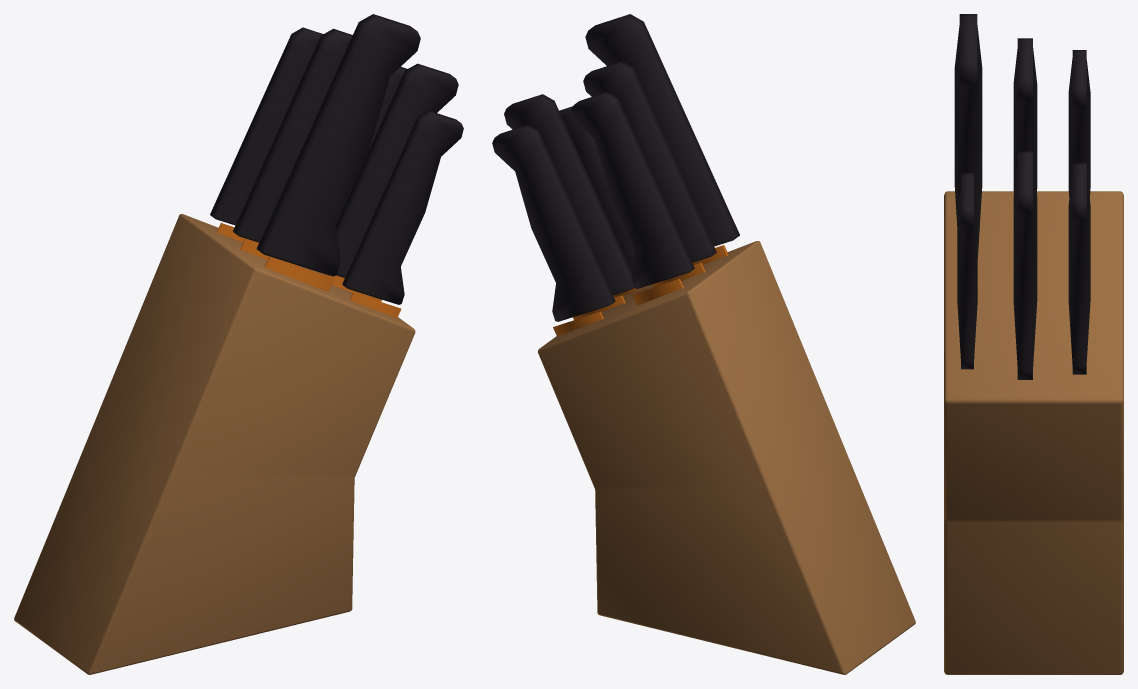
The model's file is Knife_Block.glb.
3 renders of one model, left to right at view 1: azimuth 30°, elevation 25°; view 2: azimuth 150°, elevation 25°; view 3: azimuth 270°, elevation 25°, orthographic. The views are drawn at different scales.
Parts seen in each view (by area): view 1: huitugou_2062_455, huitugou_2062_456, huitugou_2062_457; view 2: huitugou_2062_455, huitugou_2062_456, huitugou_2062_457; view 3: huitugou_2062_455, huitugou_2062_456.
Part boxes in pixels (x1,y1,x2,y2): huitugou_2062_455: (14,214,415,674); huitugou_2062_456: (210,14,463,304); huitugou_2062_457: (217,222,401,318); huitugou_2062_455: (538,241,915,674); huitugou_2062_456: (492,14,739,321); huitugou_2062_457: (553,245,728,336); huitugou_2062_455: (944,191,1123,674); huitugou_2062_456: (954,14,1090,379).
Bounding box in the file's own units: 0.1934 × 0.2673 × 0.0642.
